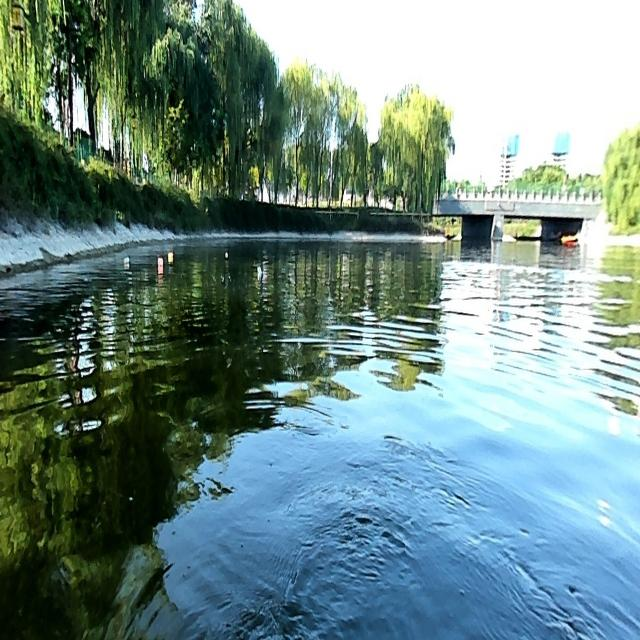bottle: (254, 262, 264, 277), (166, 248, 174, 259), (122, 252, 128, 264), (156, 254, 162, 265)
